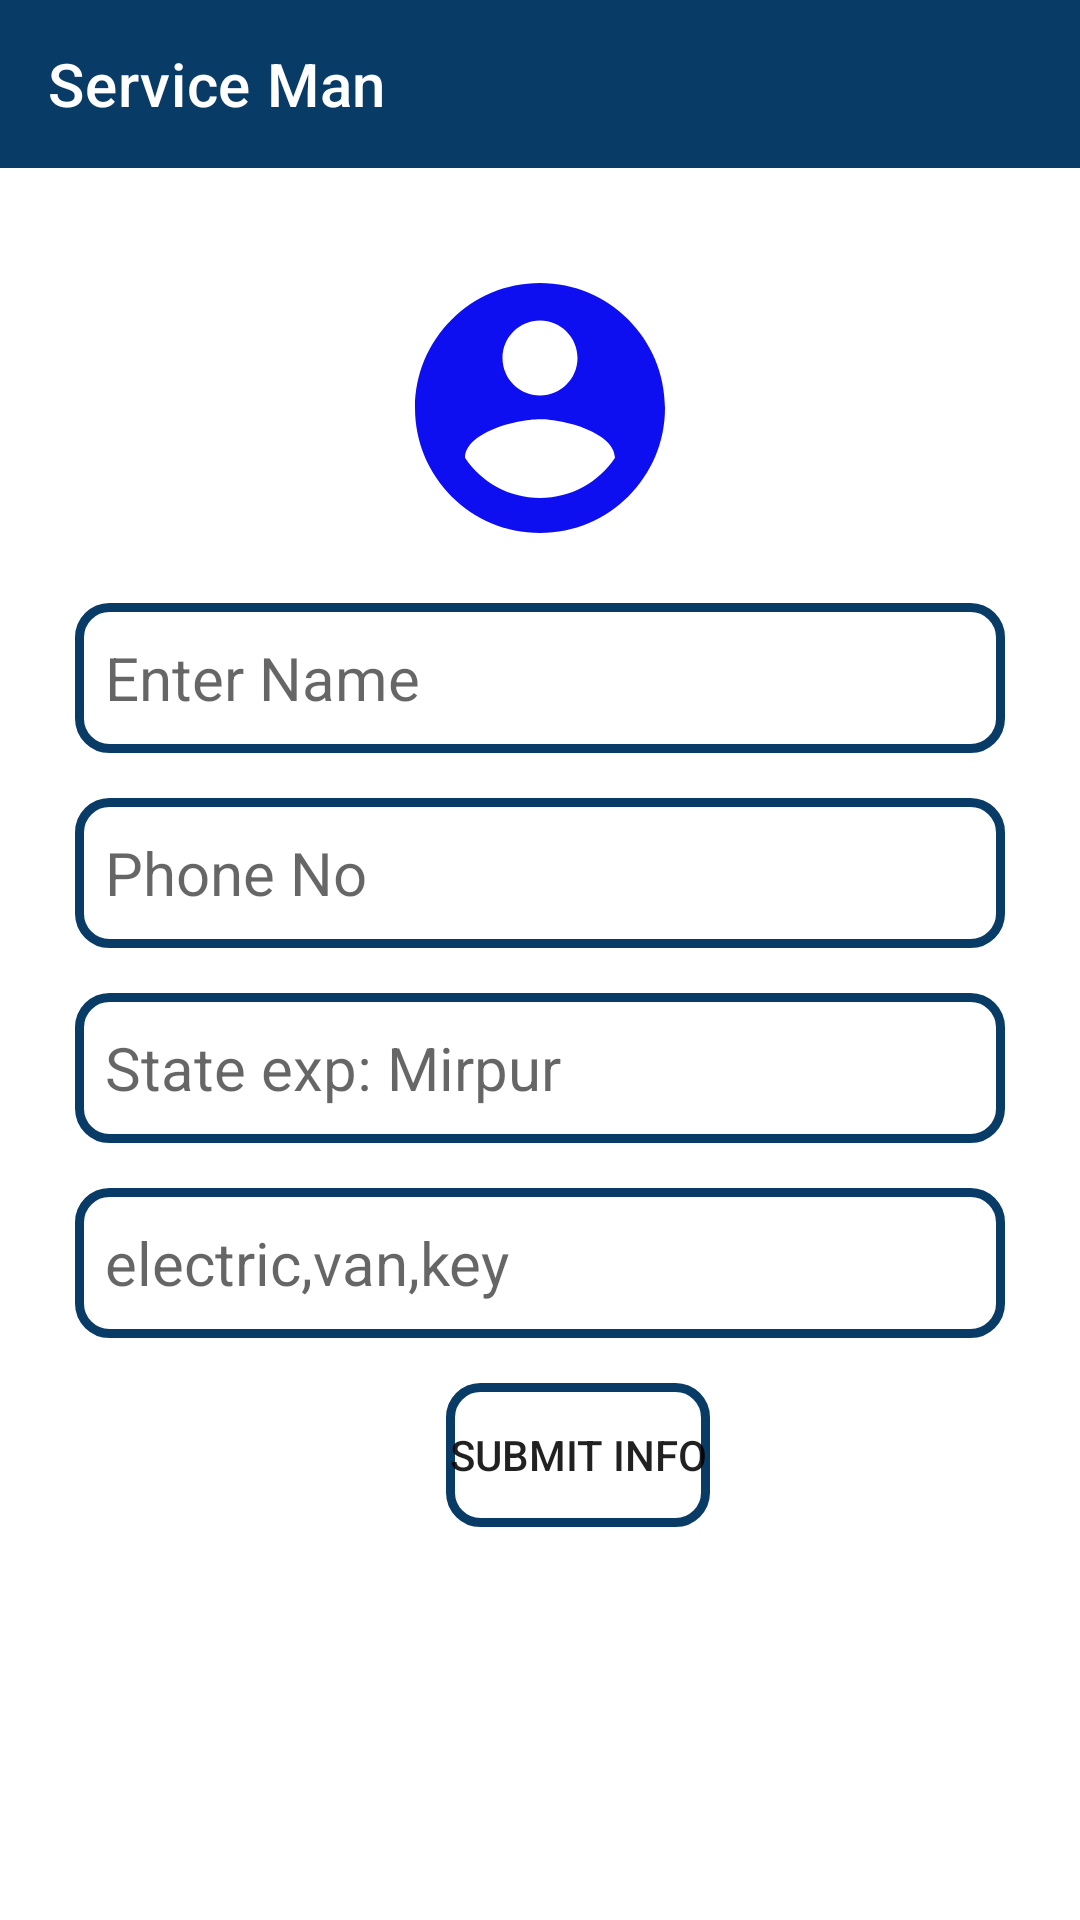

Point at icon controls on the screen. Image size 1080w x 1920h, points as (x=x, y=y).
account circle: (x=540, y=408)
